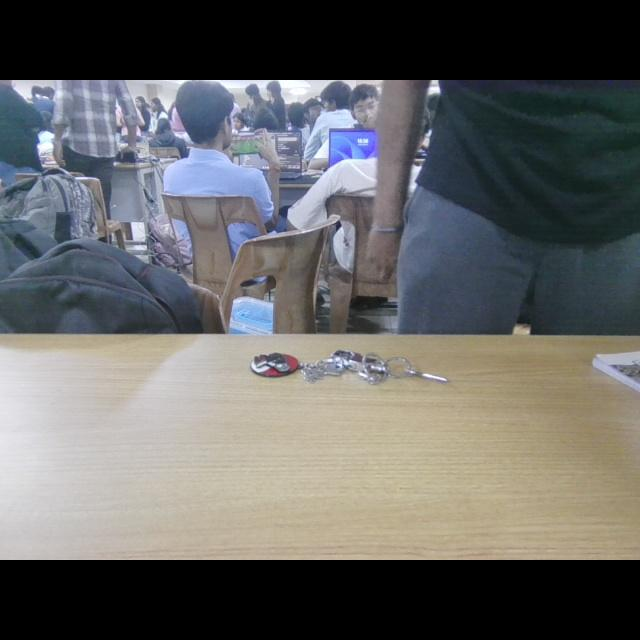keys: (245, 335, 455, 401)
